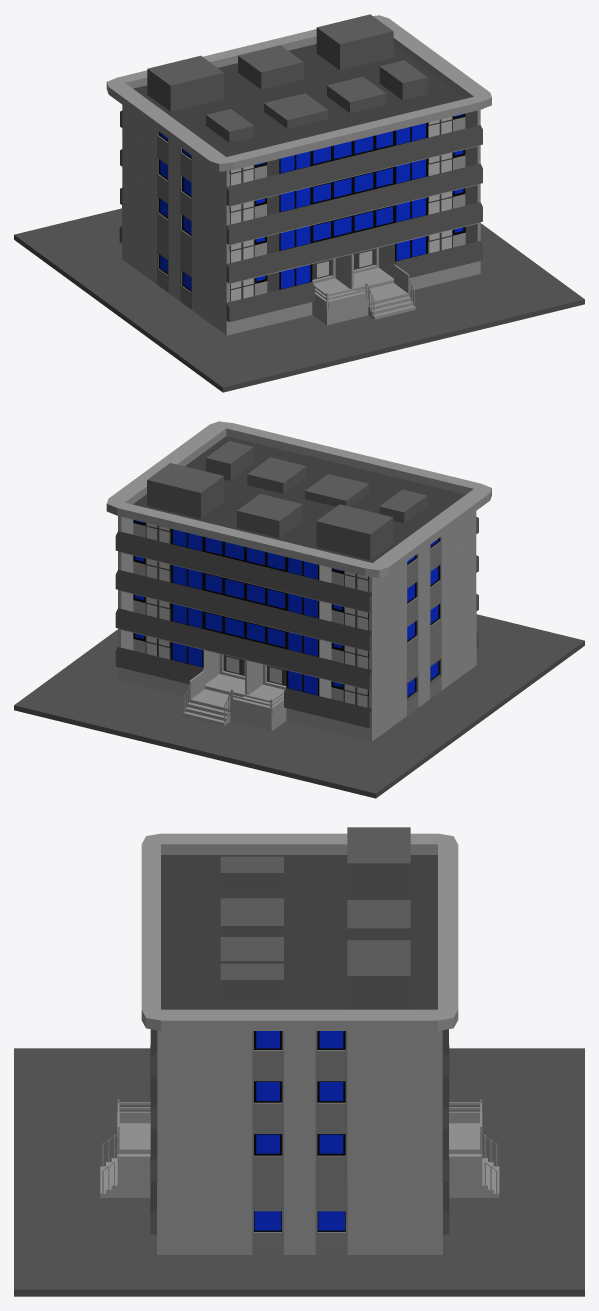
Rendered from Immeuble3_1.glb.
3 views of the same model, one above another, from view 1: azimuth 30°, elevation 25°; view 2: azimuth 150°, elevation 25°; view 3: azimuth 270°, elevation 25° (orthographic). The views are drawn at different scales.
Visible parts, largest first — view 1: Immeuble3_1; view 2: Immeuble3_1; view 3: Immeuble3_1.
Boxes of the visible parts, x1,y1,x2,y2 form: Immeuble3_1: (14,14,584,392); Immeuble3_1: (14,421,584,798); Immeuble3_1: (14,827,584,1296).
Bounding box in the file's own units: 25 × 13.24 × 25.
